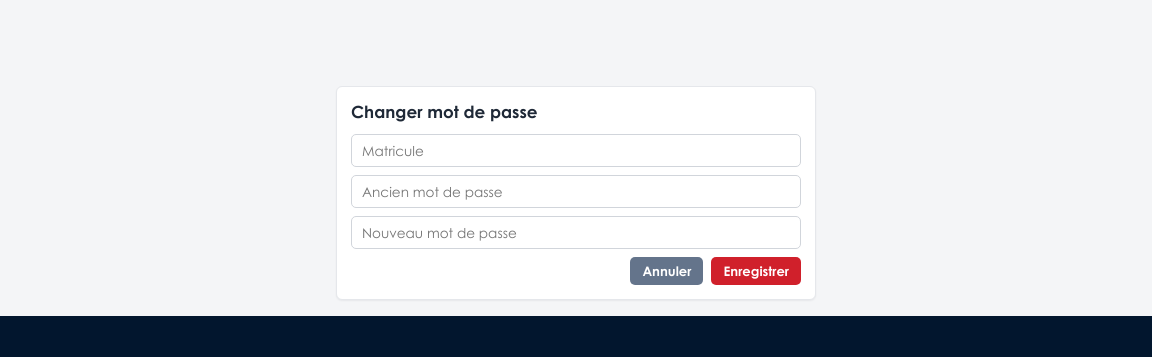
Test: ChangePassword › shows error message on API failure
The image size is (1152, 357).
Type "EMP01" into the field with placeholder "Matricule". click: [576, 150]
box: [351,134,801,167]
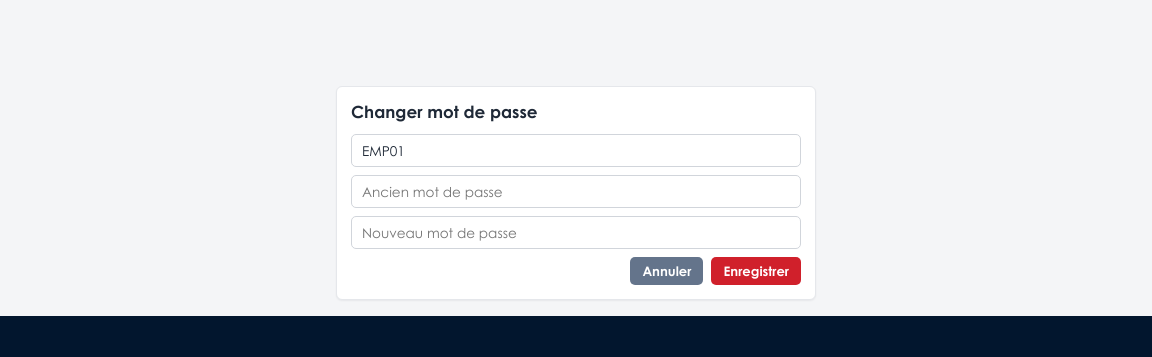
Type "wrong" into the password field with placeholder "Ancien mot de passe". click: [576, 192]
box: [351,175,801,208]
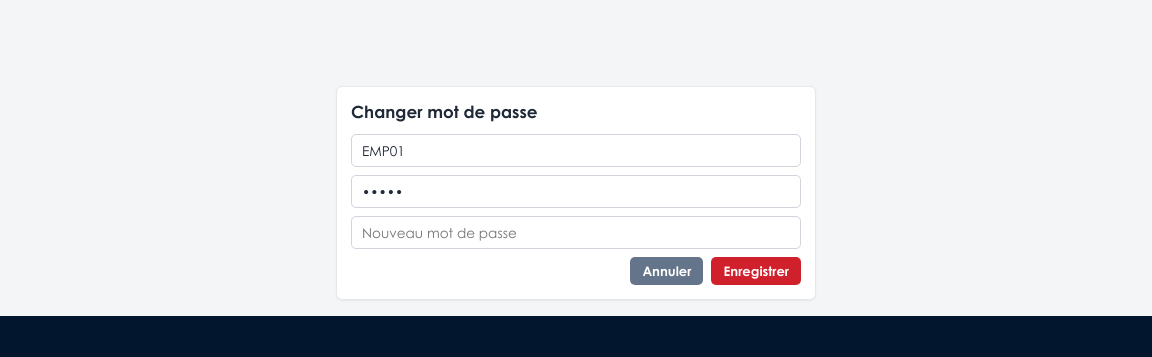
Type "NewPass1!" into the password field with placeholder "Nouveau mot de passe". click: [576, 232]
box: [351,216,801,249]
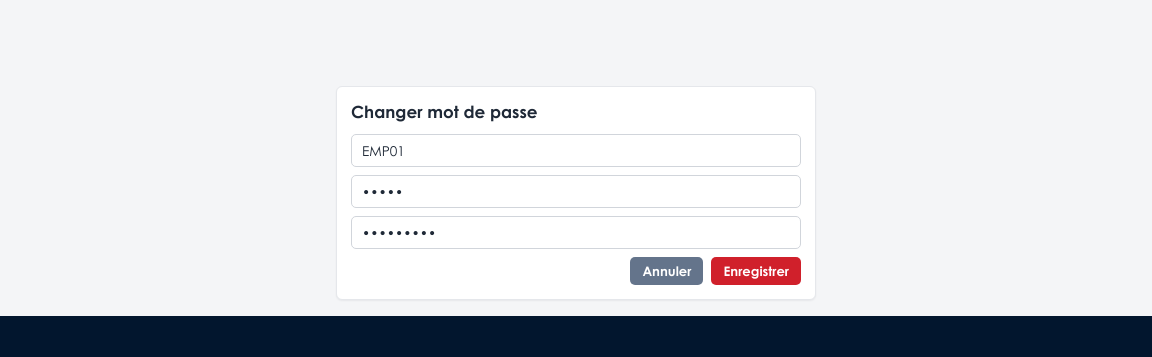
Click the button "Enregistrer". click: [756, 271]
box: [712,257,801,285]
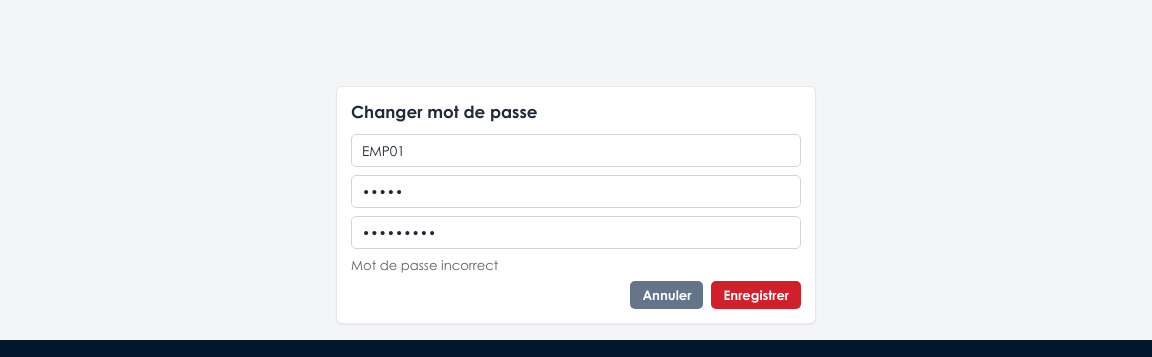
Result: the text "Mot de passe incorrect" is shown at [351,257,498,273]
